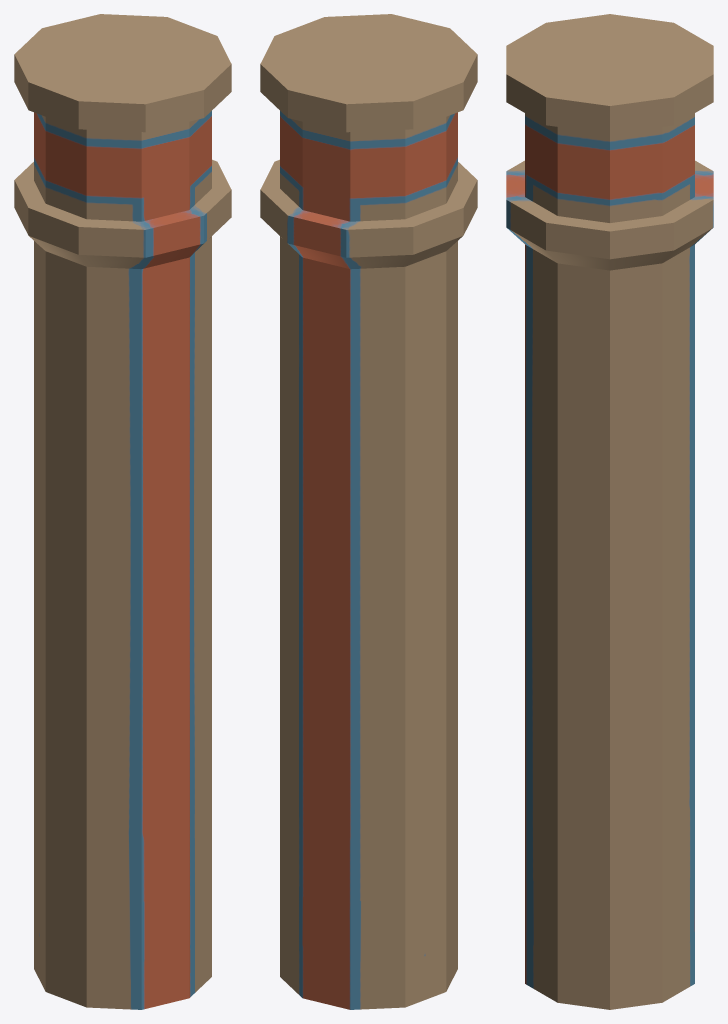
The model's file is Colomn_paintings_01.fbx.
3 views of the same model, side by side, from view 1: azimuth 30°, elevation 25°; view 2: azimuth 150°, elevation 25°; view 3: azimuth 270°, elevation 25° (orthographic).
Visible parts, largest first — view 1: SM_colomn_paintings_01; view 2: SM_colomn_paintings_01; view 3: SM_colomn_paintings_01.
Boxes of the visible parts, x1,y1,x2,y2 form: SM_colomn_paintings_01: (14, 14, 231, 1009); SM_colomn_paintings_01: (260, 14, 477, 1009); SM_colomn_paintings_01: (506, 14, 713, 1009).
Size of the model in its own units: 84 by 388 by 79.89.
Materials: 1 (1 with a texture image).
